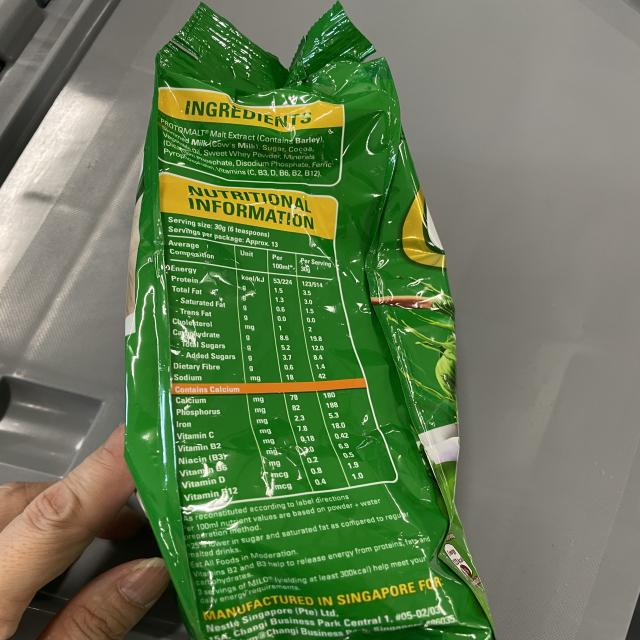object_name: (135, 24, 491, 640)
